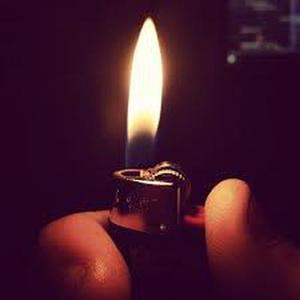fire: (126, 13, 166, 174)
